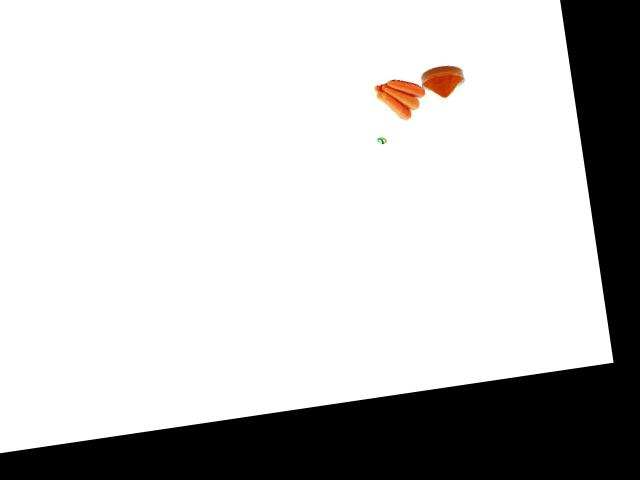carrot: (383, 71, 425, 102)
